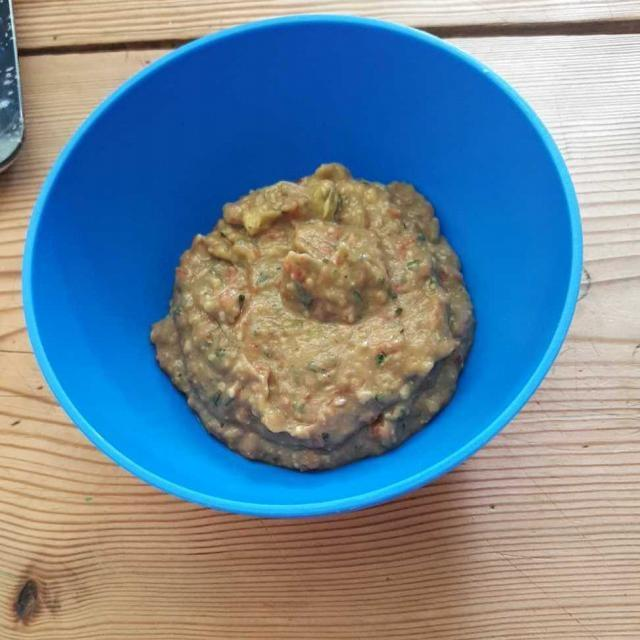guacamole: (154, 167, 472, 465)
